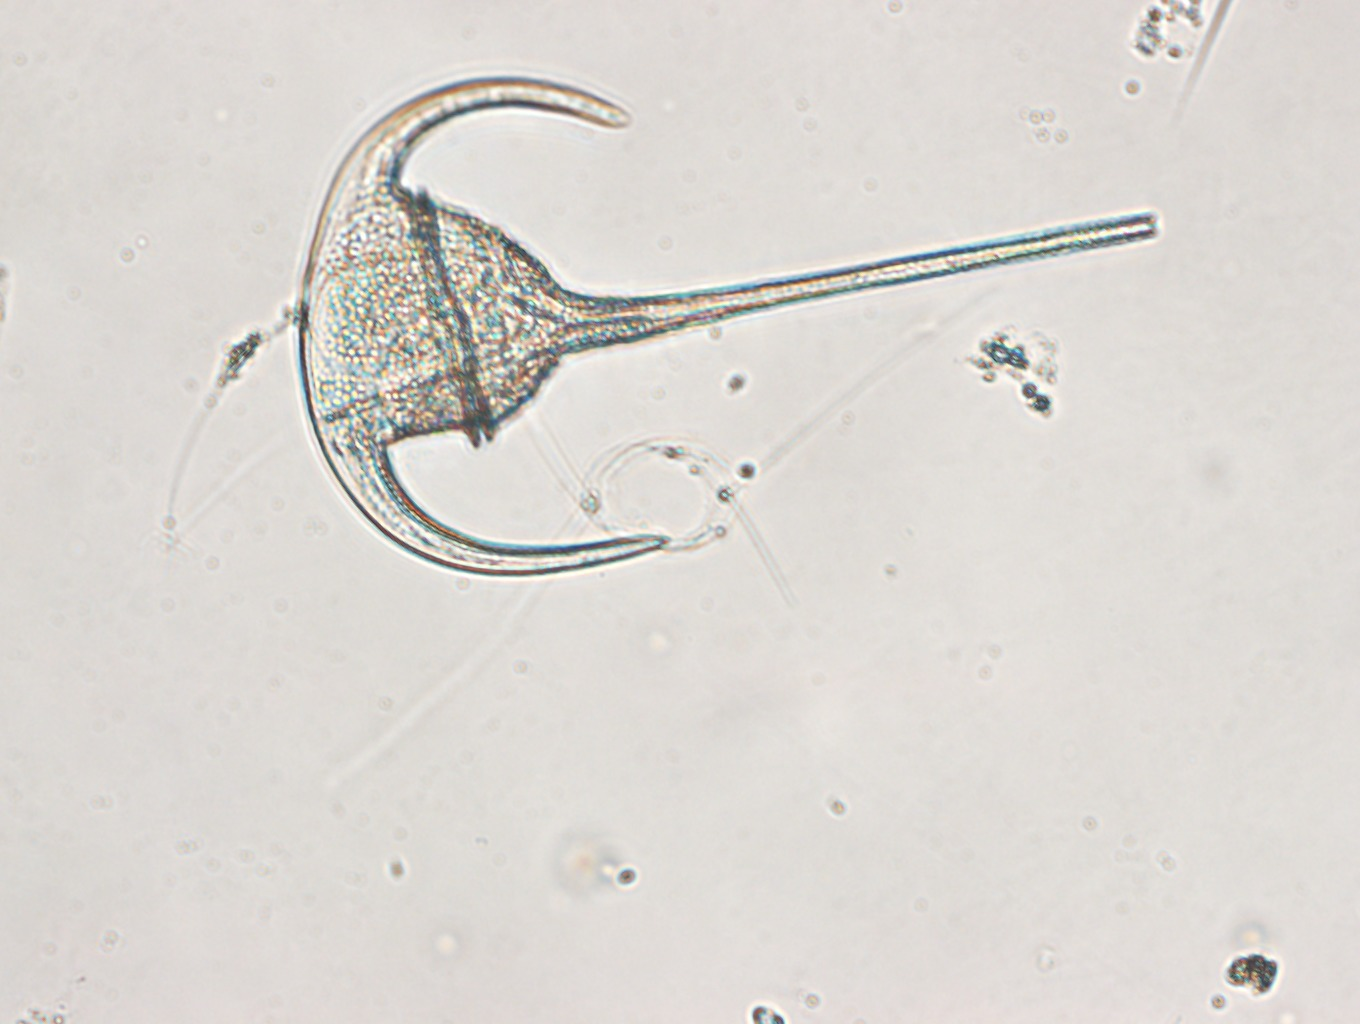ceratium tripos: (294, 68, 1173, 588)
